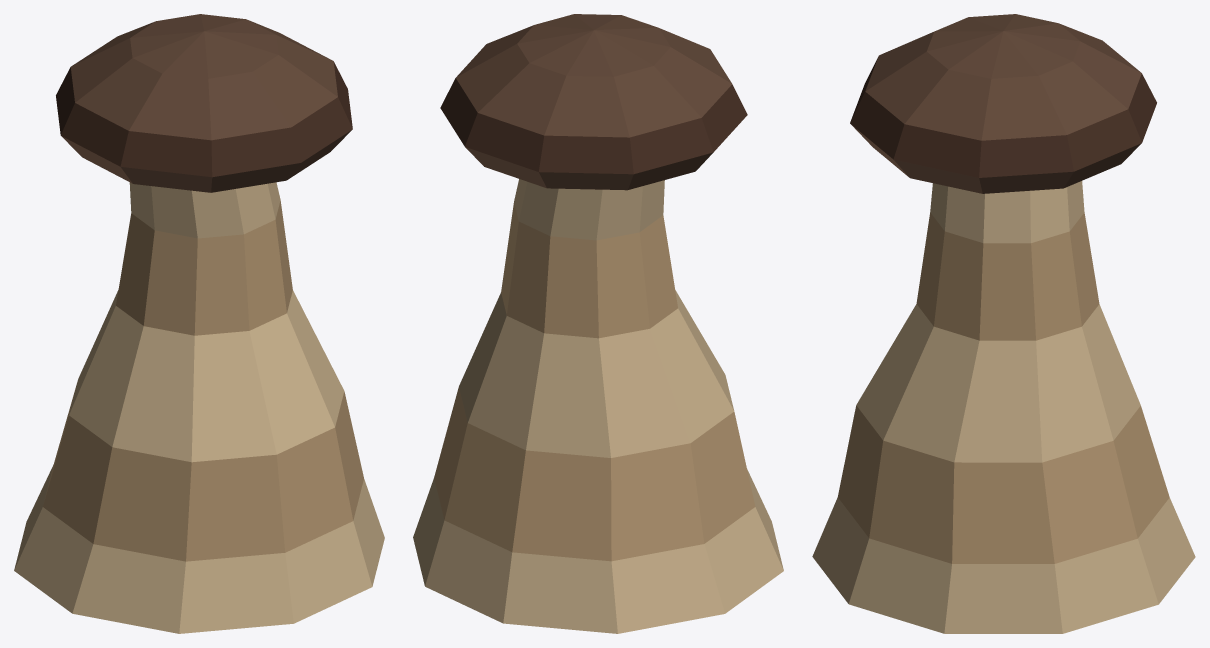
File: chimney_c.glb
3 renders of one model, left to right at view 1: azimuth 30°, elevation 25°; view 2: azimuth 150°, elevation 25°; view 3: azimuth 270°, elevation 25°, orthographic.
Parts seen in each view (by area): view 1: chimney_c; view 2: chimney_c; view 3: chimney_c.
Part boxes in pixels (box(x1,y1,x2,y2)): chimney_c: box(14, 14, 384, 633); chimney_c: box(413, 14, 783, 633); chimney_c: box(812, 14, 1195, 633).
Bounding box in the file's own units: 0.5159 × 0.824 × 0.5421.
